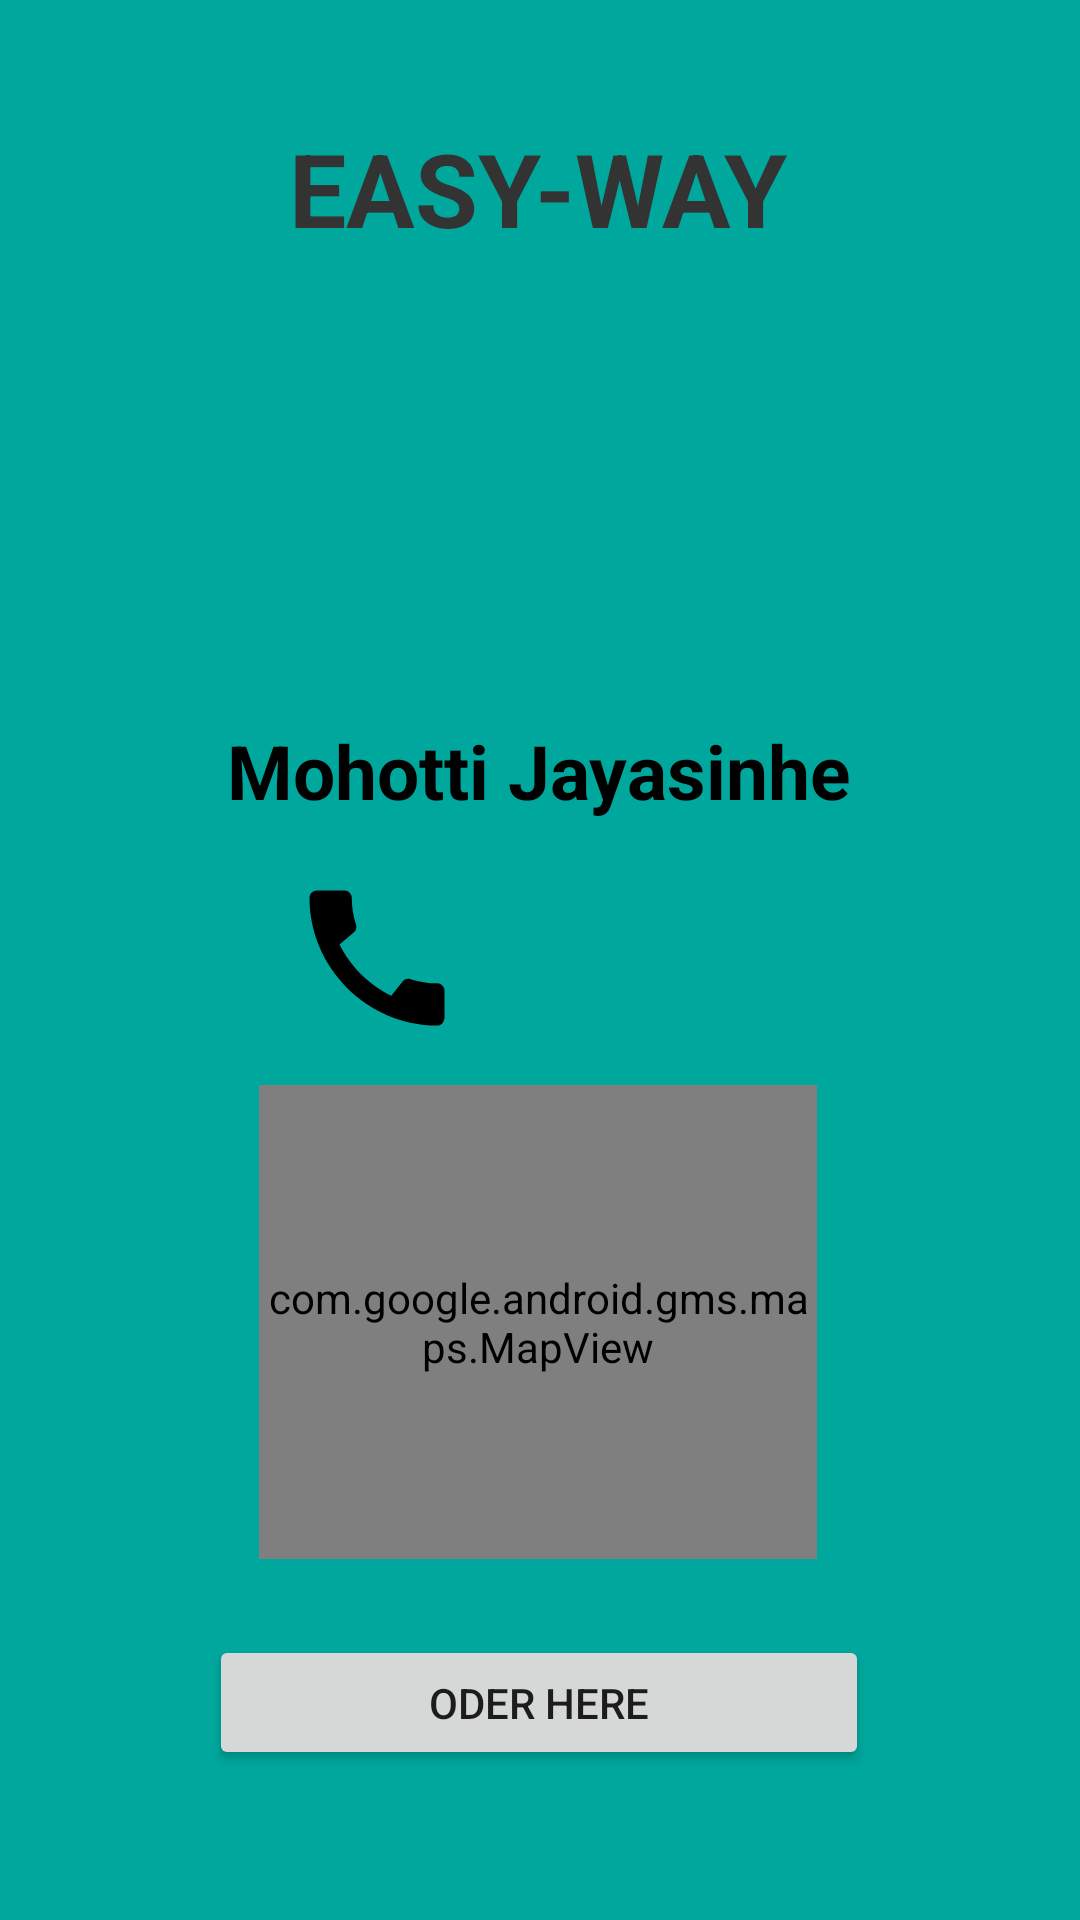

Locate icon controls on the screen. Image size 1080px×1920px, boxes as Rect(x1, y1, x2, y2).
call: Rect(309, 890, 445, 1026)
